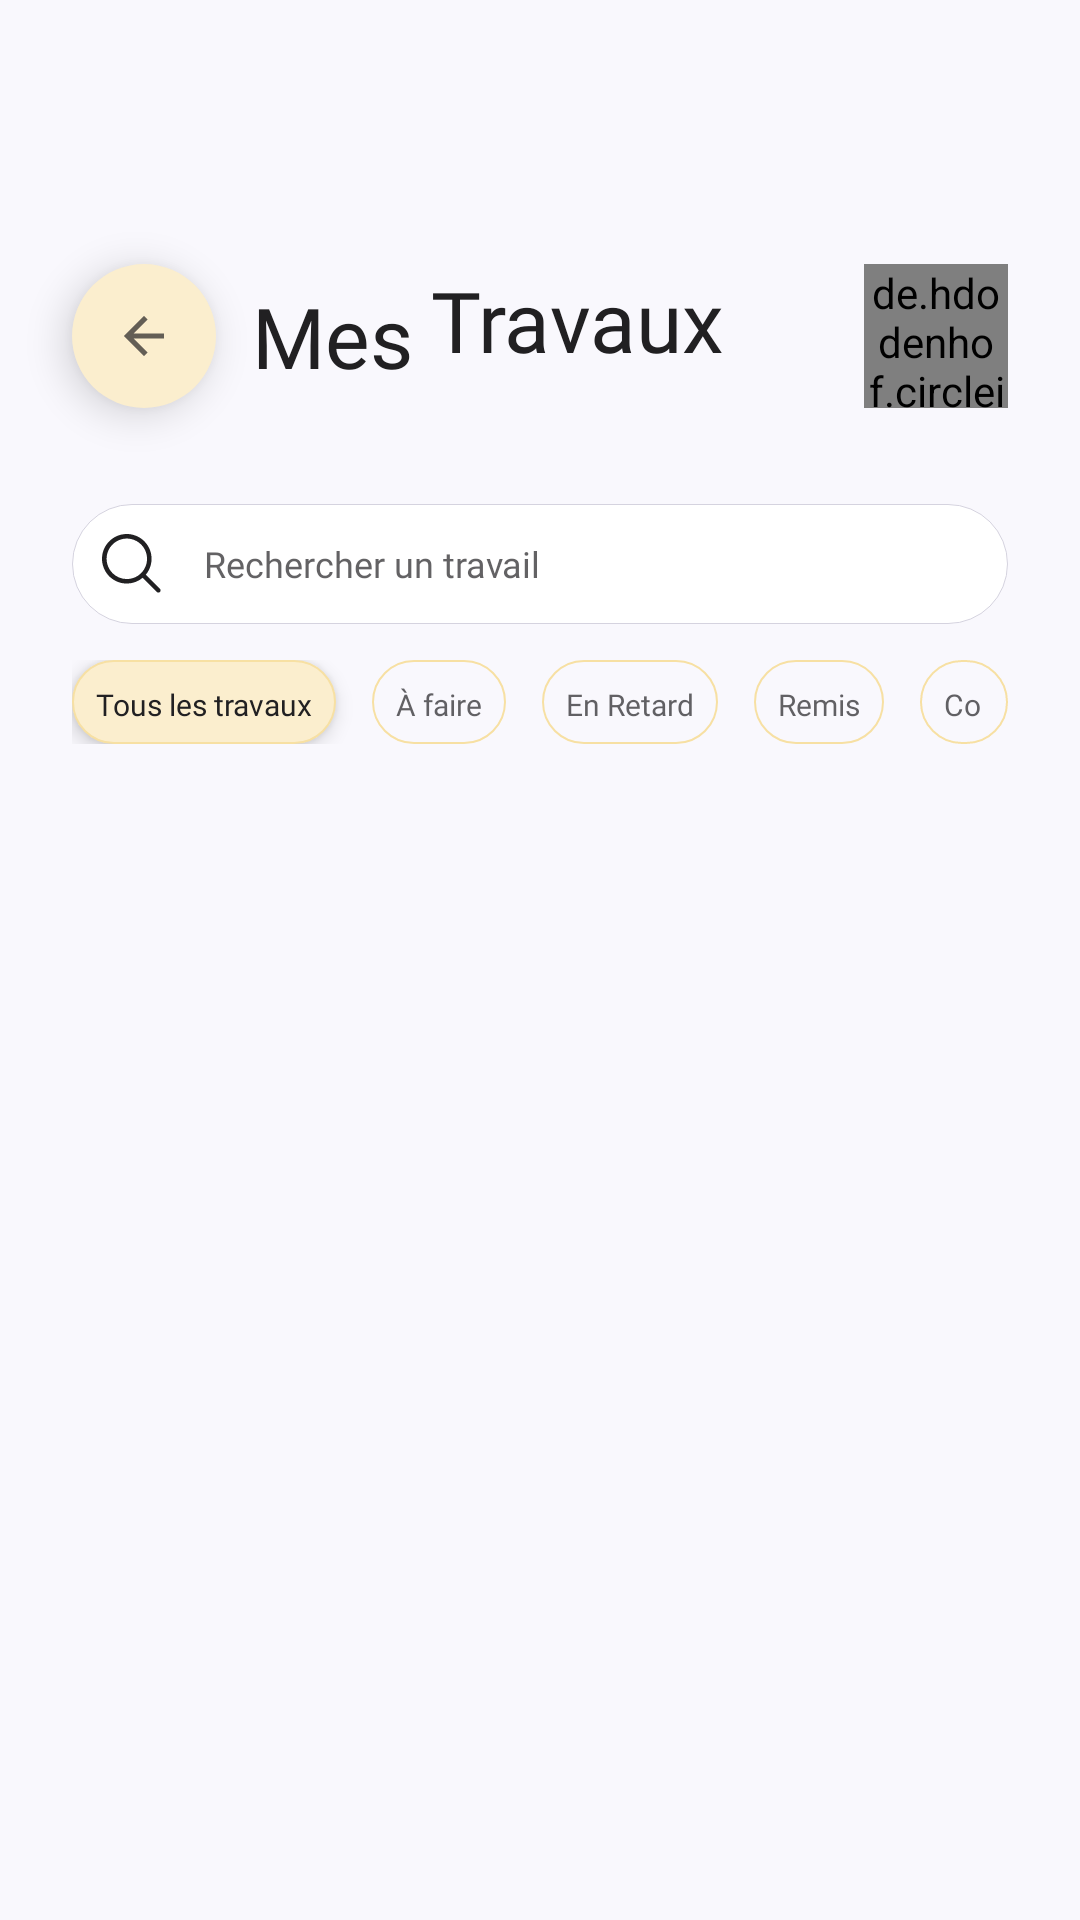

Named icons in this screenshot (1080px×1920px) and their bounding boxes, detection(x1, y1, x2, y2):
fleche gauche: detection(72, 264, 216, 408)
